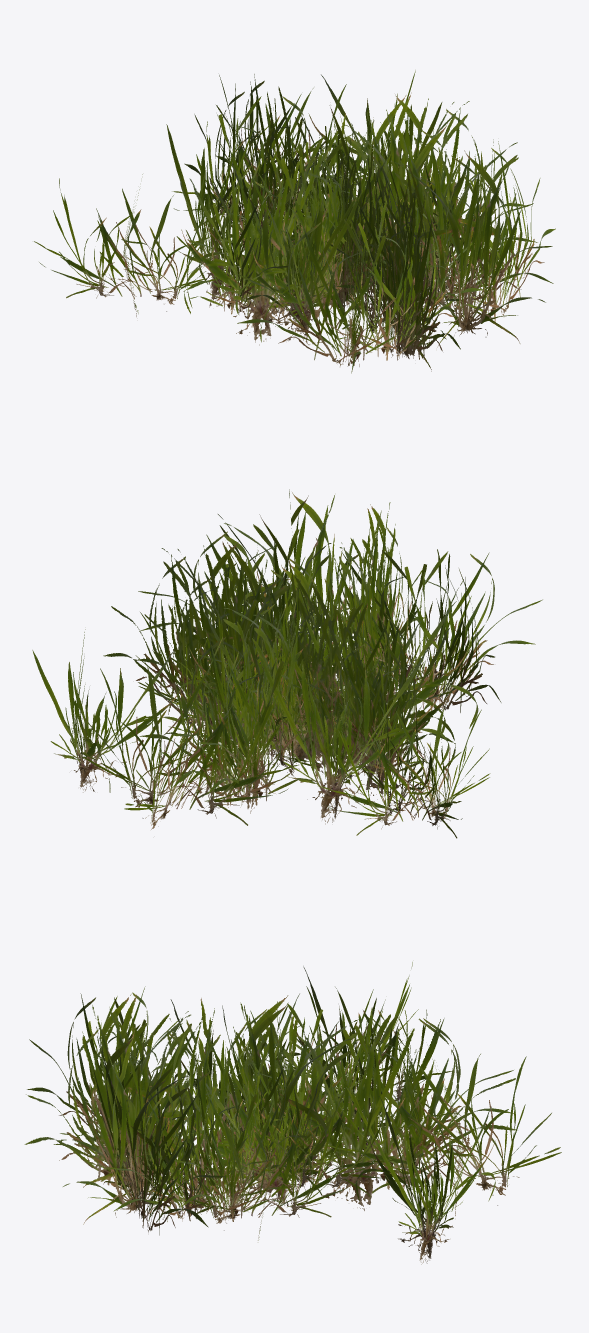
The model's file is Grass12.fbx.
The picture shows the model from 3 angles, top to bottom: view 1: azimuth 30°, elevation 25°; view 2: azimuth 150°, elevation 25°; view 3: azimuth 270°, elevation 25°; orthographic projection. The views are drawn at different scales.
Visible parts, largest first — view 1: LOD0, Billboard; view 2: LOD0, Billboard; view 3: LOD0, Billboard.
Boxes of the visible parts, box(x1,y1,x2,y2) form: LOD0: box(34, 70, 555, 373); Billboard: box(184, 74, 525, 371); LOD0: box(32, 489, 542, 838); Billboard: box(103, 502, 455, 813); LOD0: box(27, 962, 561, 1264); Billboard: box(24, 994, 517, 1210).
Size of what is drawn, in the model's own units: 137 by 71 by 152.
